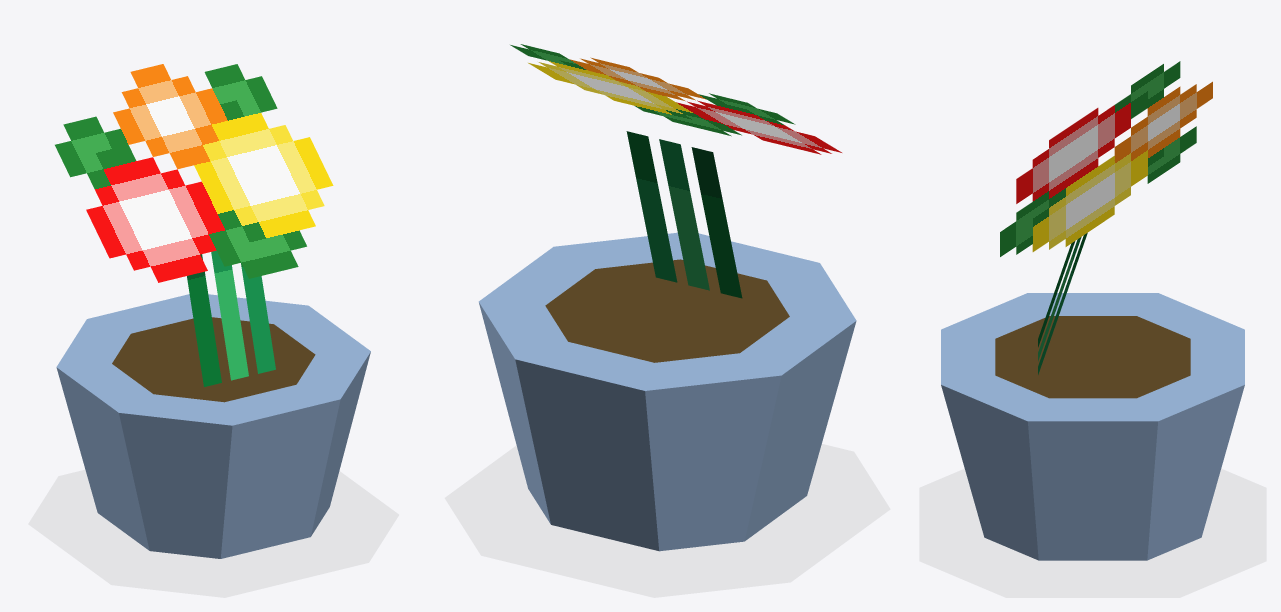
Rendered from modelo.obj.
The picture shows the model from 3 angles, left to right: view 1: azimuth 30°, elevation 25°; view 2: azimuth 150°, elevation 25°; view 3: azimuth 270°, elevation 25°; orthographic projection. The views are drawn at different scales.
Parts seen in each view (by area): view 1: polygon4, polygon1, polygon2, polygon0; view 2: polygon4, polygon2, polygon0, polygon1; view 3: polygon4, polygon1, polygon2, polygon0.
Part boxes in pixels (left/top/right/bottom): polygon4: left=56, top=294, right=370, bottom=558; polygon1: left=55, top=64, right=333, bottom=282; polygon2: left=112, top=317, right=315, bottom=402; polygon0: left=187, top=250, right=275, bottom=386; polygon4: left=478, top=232, right=856, bottom=551; polygon2: left=545, top=259, right=789, bottom=362; polygon0: left=626, top=131, right=742, bottom=298; polygon1: left=510, top=44, right=841, bottom=154; polygon4: left=941, top=293, right=1244, bottom=560; polygon1: left=1000, top=61, right=1212, bottom=256; polygon2: left=995, top=316, right=1190, bottom=398; polygon0: left=1038, top=233, right=1087, bottom=374.
Size of the model in its own units: 16 by 22.5 by 16.
Materials: 5 (5 with a texture image).
